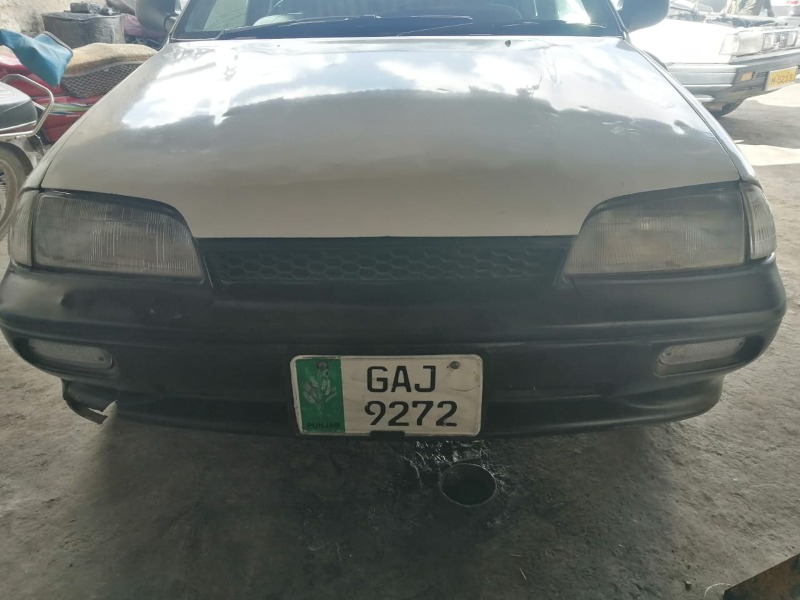License Plate: (288, 350, 489, 445)
